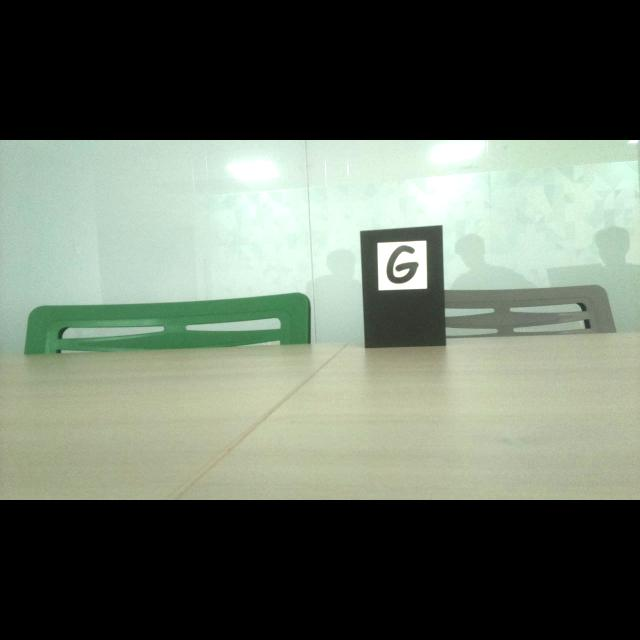G: (386, 245, 419, 284)
